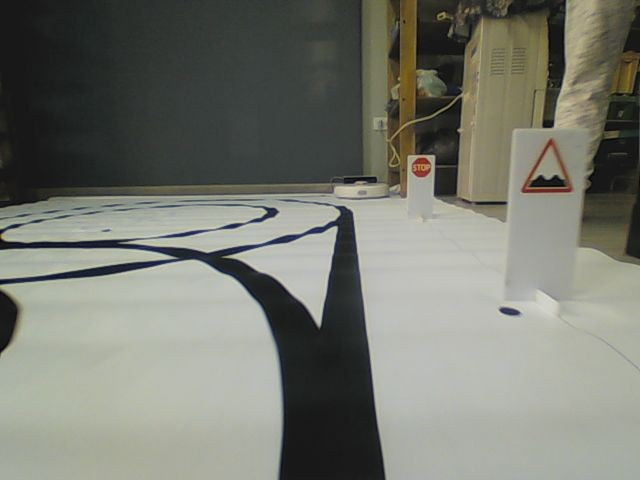Stop: (411, 156, 432, 179)
